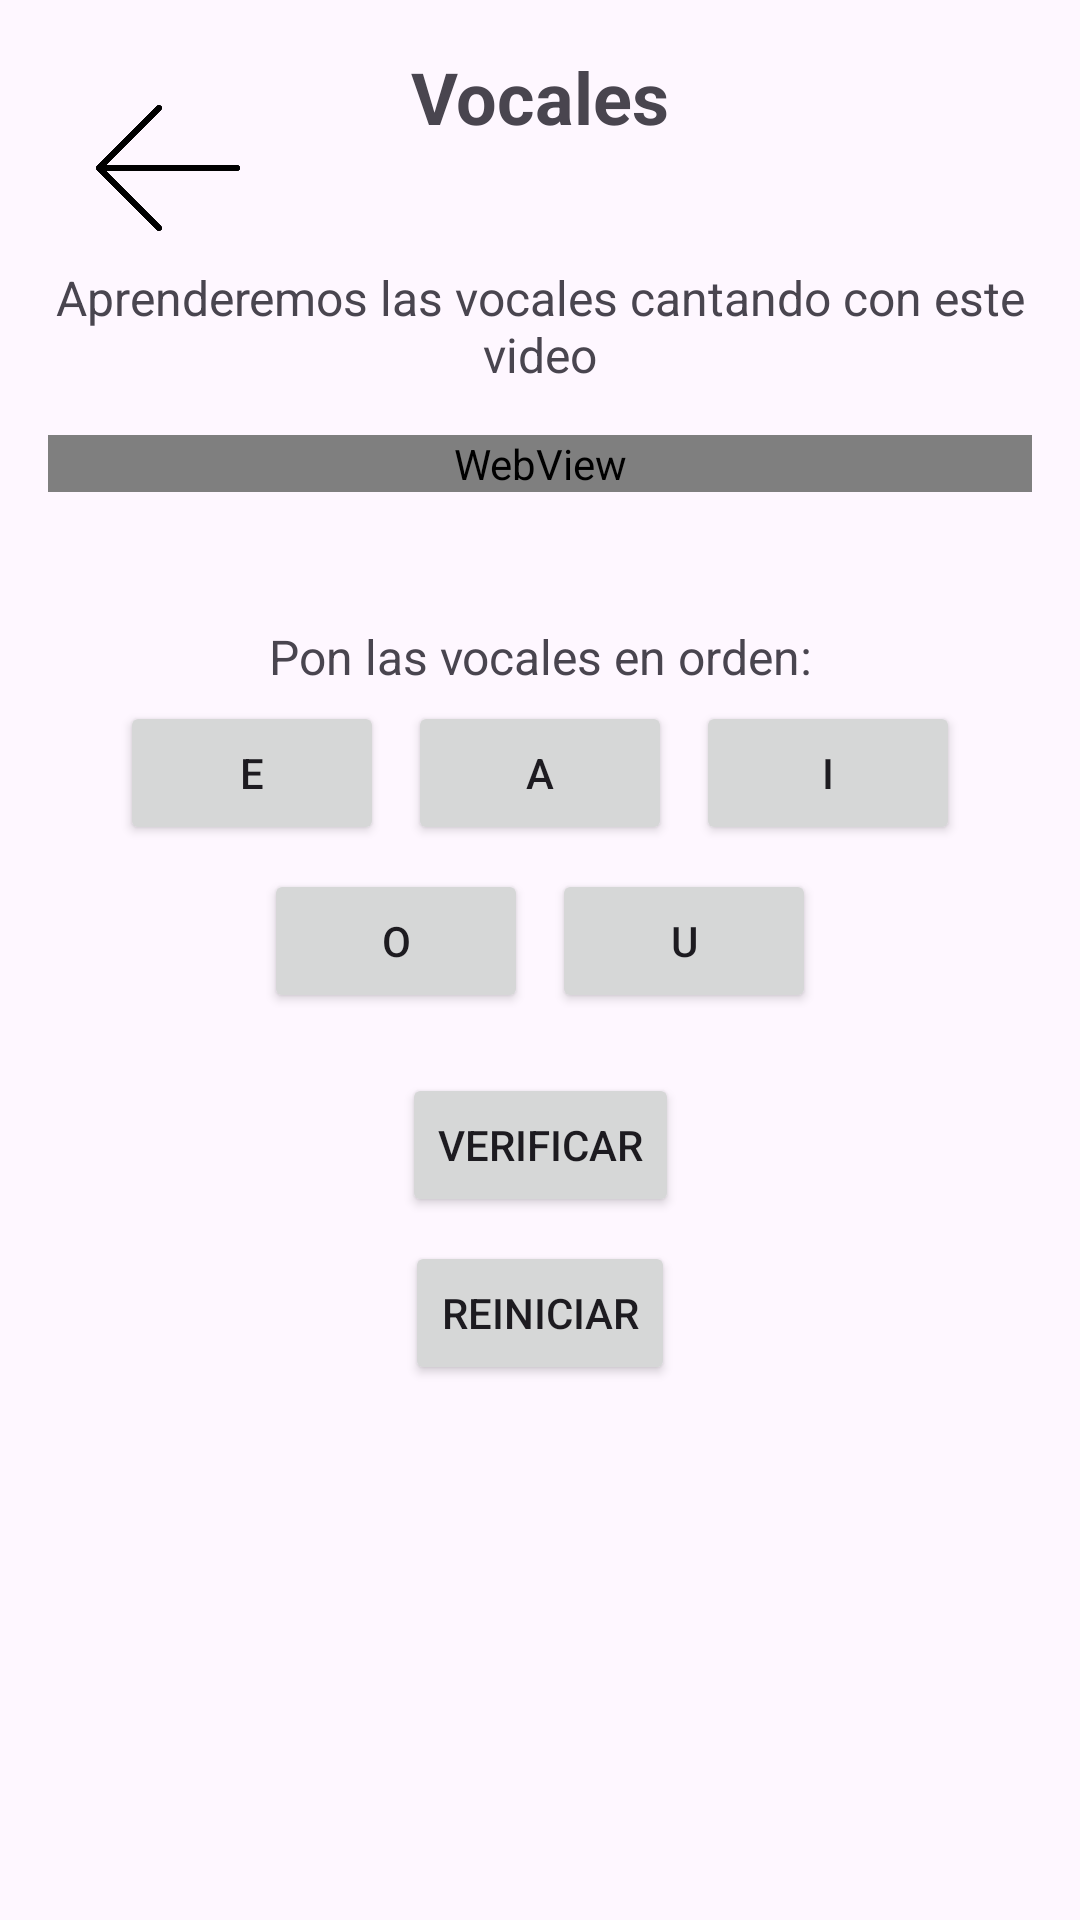

Where icons sit on this 1080w x 1920h app screen, as [x1=x1, y1=y1, x2=x2, y2=y2]:
Botón de volver: [x1=96, y1=105, x2=240, y2=231]
